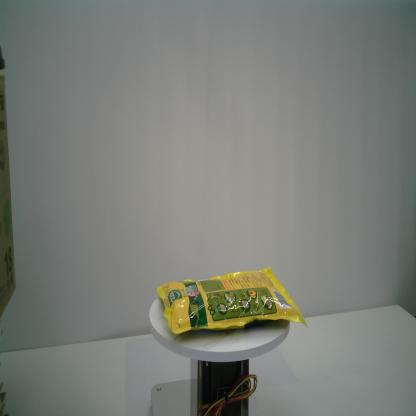Seasoner: (154, 264, 310, 341)
